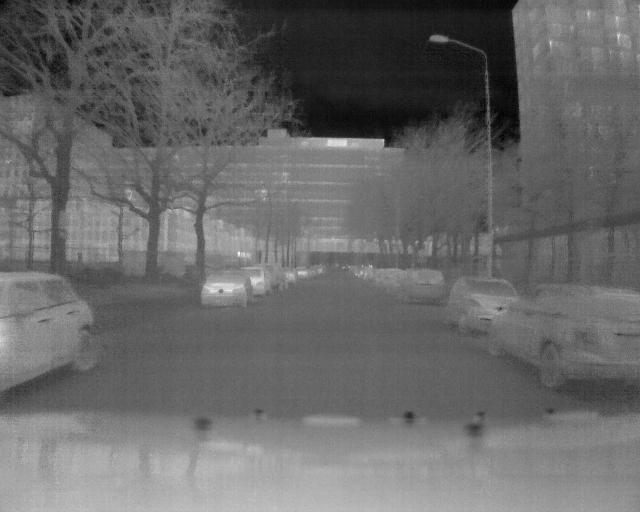car: (483, 282, 640, 391), (1, 263, 104, 393), (445, 274, 526, 340), (196, 264, 256, 311), (395, 267, 453, 304), (236, 264, 278, 298)
